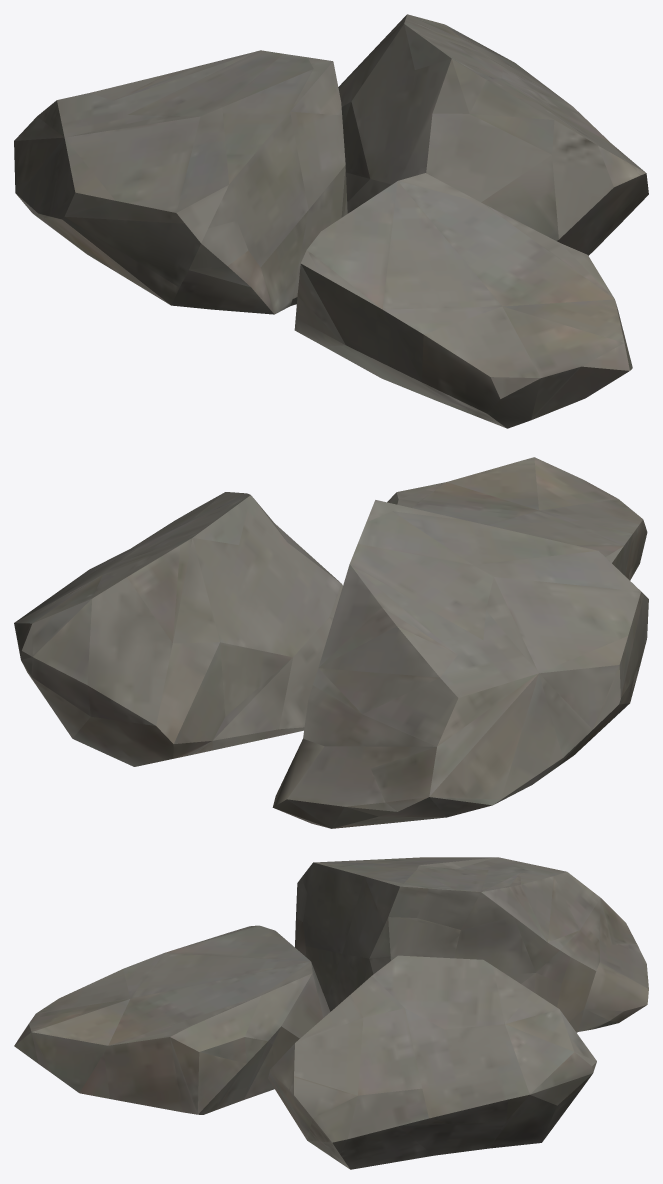
The model's file is rock_3.glb.
3 views of the same model, one above another, from view 1: azimuth 30°, elevation 25°; view 2: azimuth 150°, elevation 25°; view 3: azimuth 270°, elevation 25° (orthographic). The views are drawn at different scales.
Size of the model in its own units: 1.52 by 0.6544 by 1.9.
Materials: 1 (1 with a texture image).
